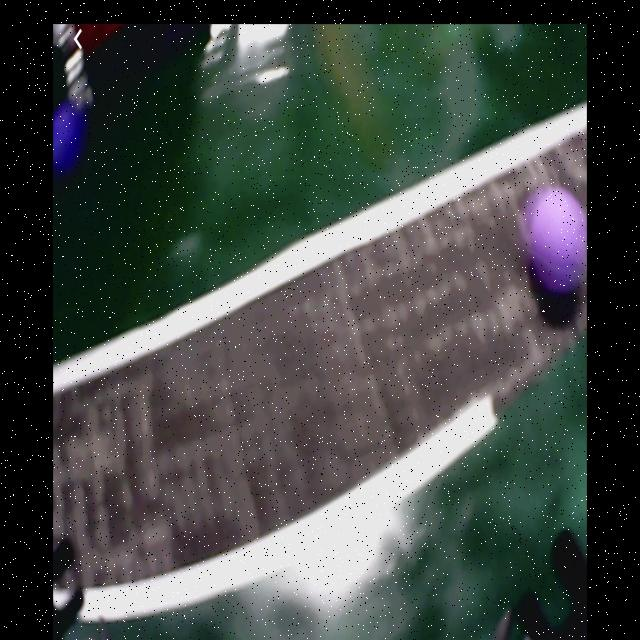ball: (532, 190, 587, 295), (55, 103, 83, 176)
